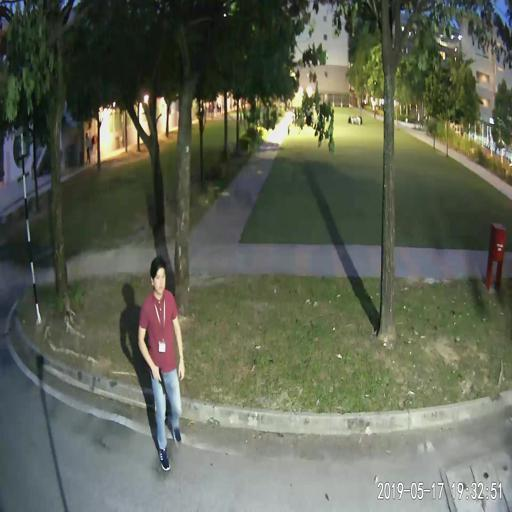Handgun: (150, 364, 165, 394)
